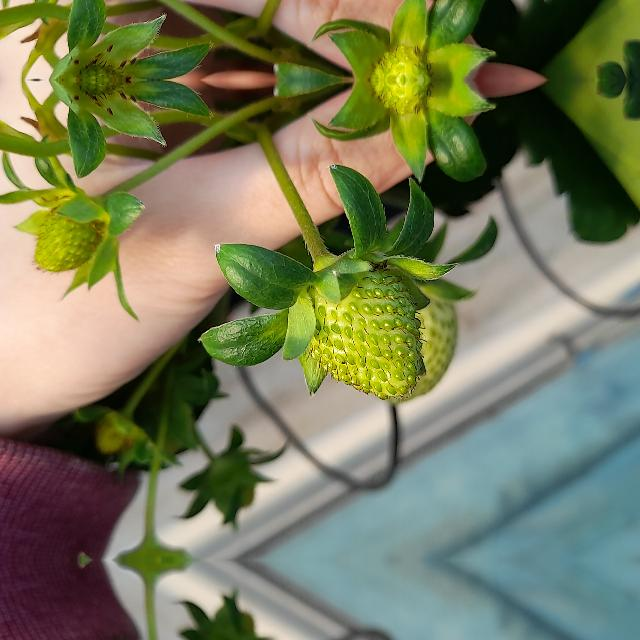Health_25: (307, 260, 427, 402), (32, 200, 108, 270)
